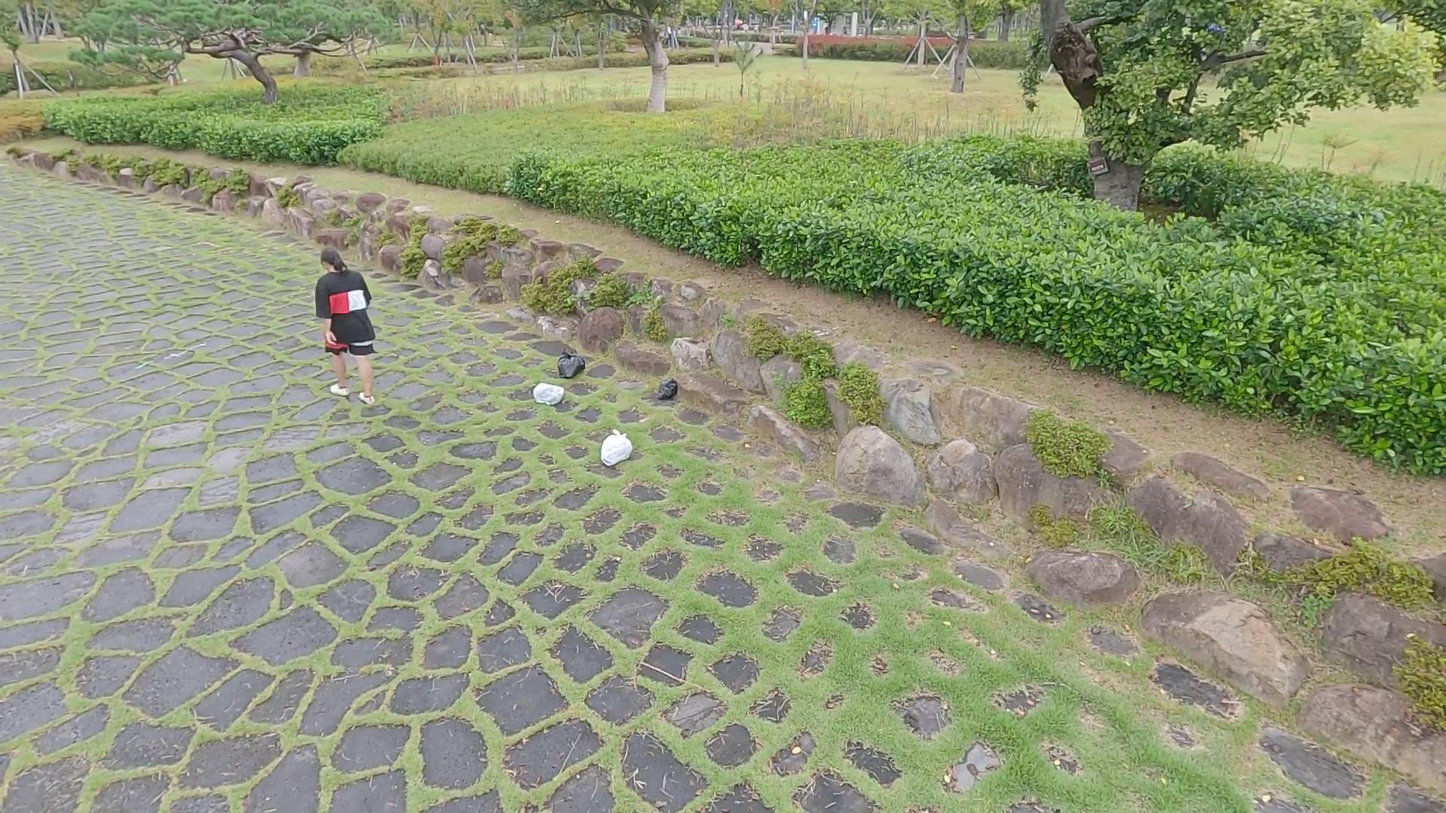person: (312, 241, 386, 411)
trash: (599, 427, 636, 467), (530, 378, 568, 411), (553, 346, 587, 381), (653, 373, 685, 406)
